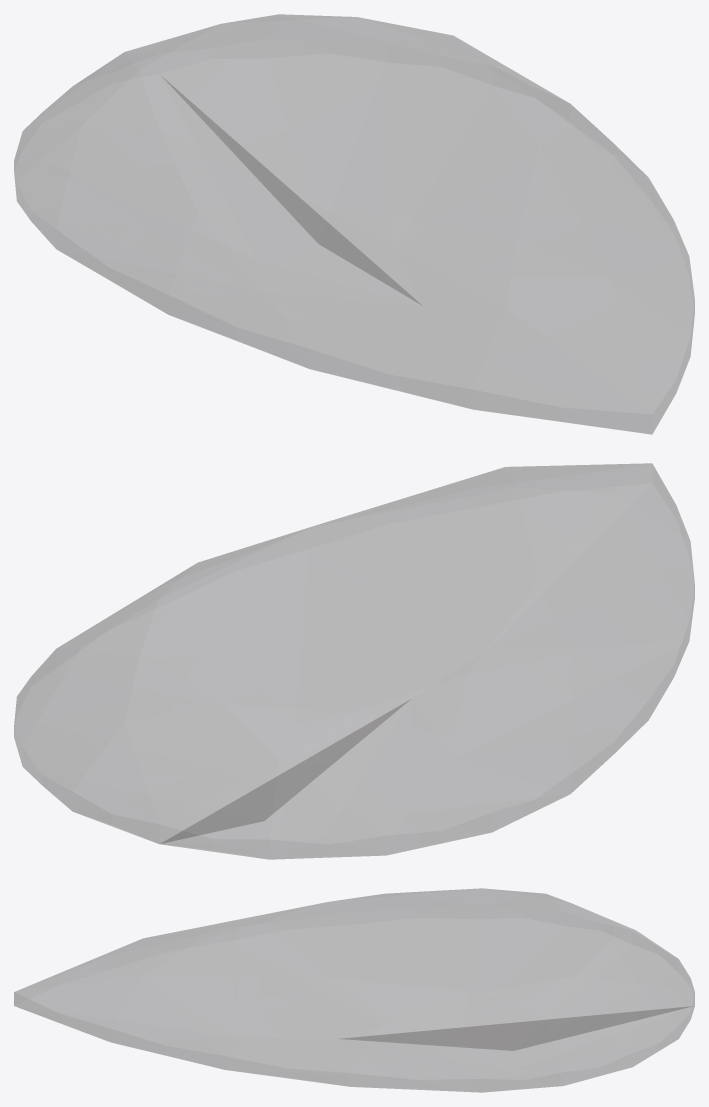
File: CRYSTAL3.fbx
The picture shows the model from 3 angles, top to bottom: view 1: azimuth 30°, elevation 25°; view 2: azimuth 150°, elevation 25°; view 3: azimuth 270°, elevation 25°; orthographic projection. The views are drawn at different scales.
Visible parts, largest first — view 1: Pear_1ct; view 2: Pear_1ct; view 3: Pear_1ct.
Boxes of the visible parts, bbox=[...] form: Pear_1ct: bbox=[14, 14, 694, 434]; Pear_1ct: bbox=[14, 463, 694, 859]; Pear_1ct: bbox=[14, 888, 694, 1092].
Size of the model in its own units: 109 by 35.73 by 181.
